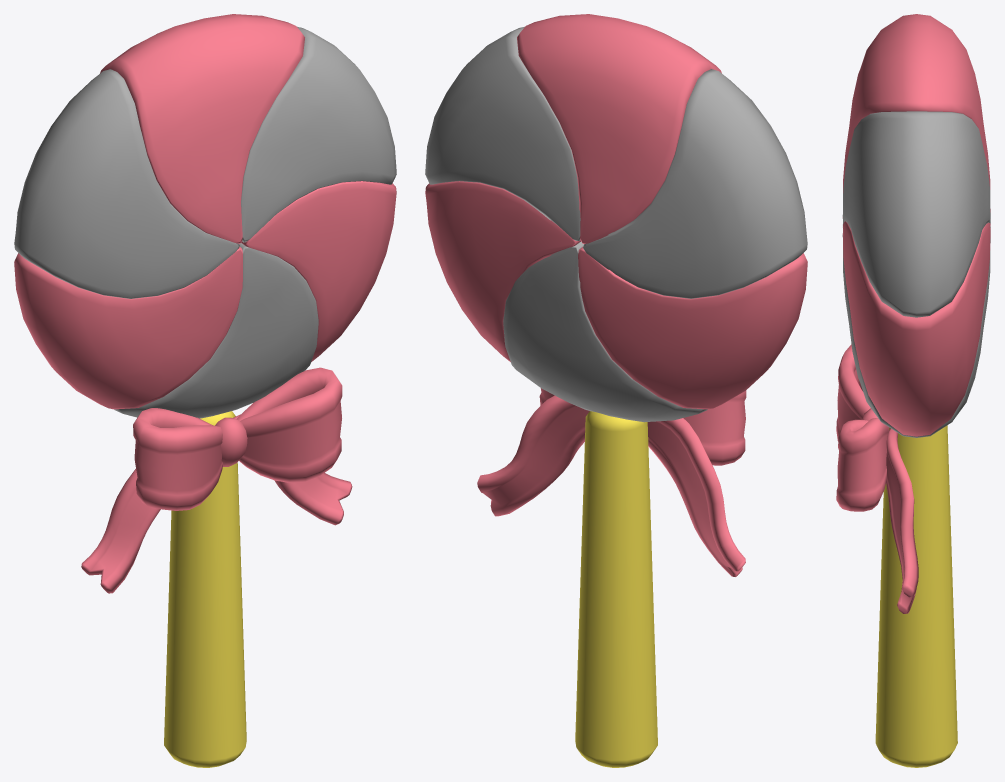
Rendered from LV1_update.fbx.
3 views of the same model, side by side, from view 1: azimuth 30°, elevation 25°; view 2: azimuth 150°, elevation 25°; view 3: azimuth 270°, elevation 25° (orthographic).
Visible parts, largest first — view 1: M_Lollipop_02, S_Lollipop4, S_Lollipop6, S_Lollipop, M_Lollipop_01, S_Lollipop5, S_Lollipop7, S_Lollipop1, S_Lollipop2; view 2: M_Lollipop_02, S_Lollipop4, S_Lollipop, S_Lollipop6, M_Lollipop_01, S_Lollipop5, S_Lollipop7, S_Lollipop1, S_Lollipop2; view 3: M_Lollipop_01, S_Lollipop, S_Lollipop7, S_Lollipop4, S_Lollipop2, S_Lollipop1, S_Lollipop5.
Boxes of the visible parts, x1=… form: M_Lollipop_02: x1=14, y1=69, x2=239, y2=298; S_Lollipop4: x1=100, y1=14, x2=304, y2=243; S_Lollipop6: x1=14, y1=246, x2=242, y2=409; S_Lollipop: x1=164, y1=411, x2=246, y2=767; M_Lollipop_01: x1=241, y1=26, x2=396, y2=242; S_Lollipop5: x1=114, y1=243, x2=318, y2=418; S_Lollipop7: x1=241, y1=181, x2=396, y2=361; S_Lollipop1: x1=81, y1=408, x2=247, y2=593; S_Lollipop2: x1=233, y1=367, x2=352, y2=525; M_Lollipop_02: x1=583, y1=69, x2=807, y2=298; S_Lollipop4: x1=517, y1=14, x2=721, y2=244; S_Lollipop: x1=575, y1=411, x2=657, y2=767; S_Lollipop6: x1=578, y1=247, x2=807, y2=409; M_Lollipop_01: x1=425, y1=26, x2=580, y2=240; S_Lollipop5: x1=503, y1=241, x2=707, y2=422; S_Lollipop7: x1=425, y1=181, x2=580, y2=361; S_Lollipop1: x1=647, y1=390, x2=746, y2=576; S_Lollipop2: x1=477, y1=388, x2=589, y2=516; M_Lollipop_01: x1=842, y1=111, x2=990, y2=317; S_Lollipop: x1=875, y1=425, x2=957, y2=767; S_Lollipop7: x1=842, y1=221, x2=990, y2=436; S_Lollipop4: x1=842, y1=14, x2=990, y2=217; S_Lollipop2: x1=836, y1=418, x2=918, y2=613; S_Lollipop1: x1=836, y1=344, x2=877, y2=441; S_Lollipop5: x1=842, y1=235, x2=990, y2=437.
Size of the model in its own units: 386 by 728 by 141.
